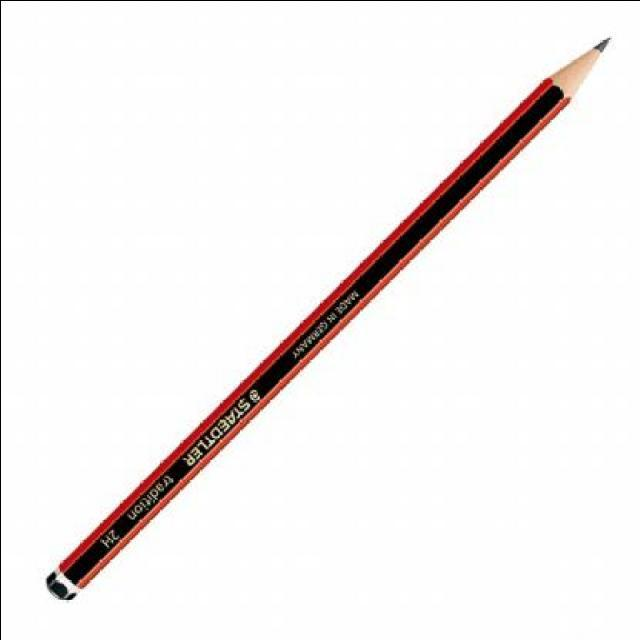Pencil: (525, 32, 617, 123)
